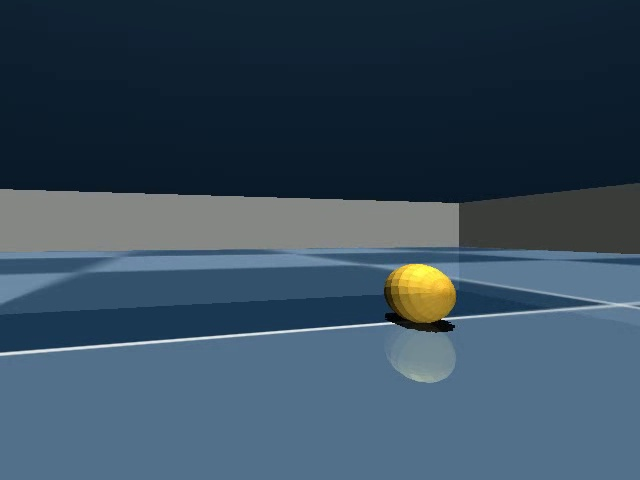lemon: (377, 256, 465, 337)
